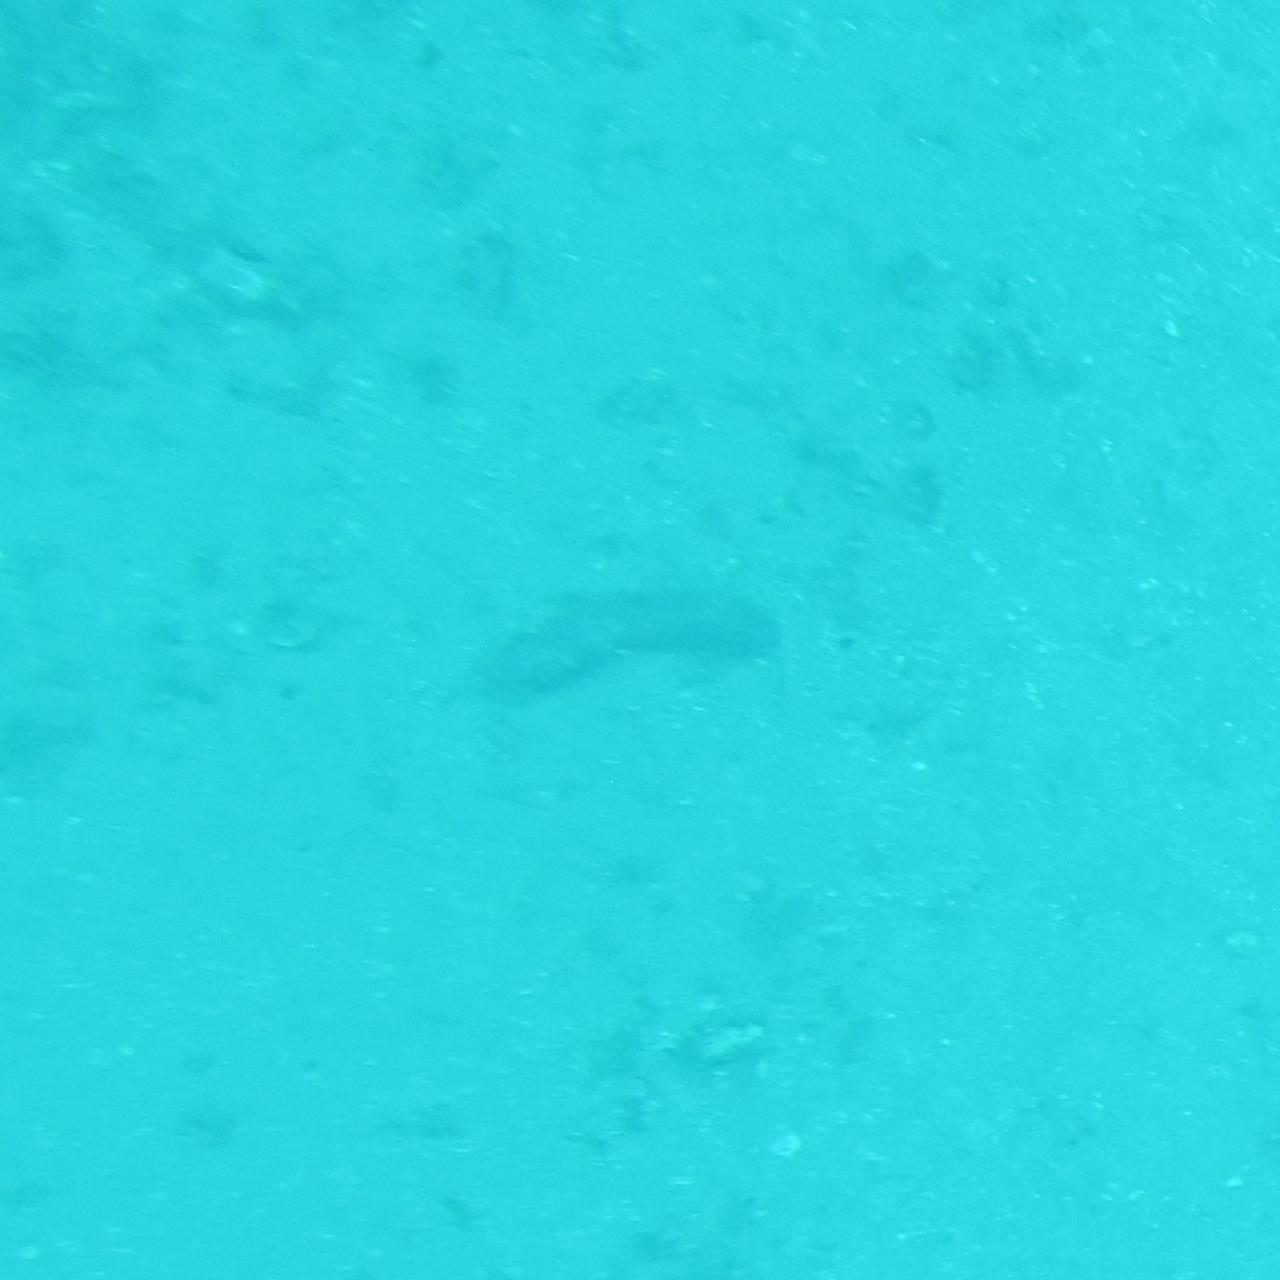Holothuria tubulosa: (494, 578, 786, 702)
